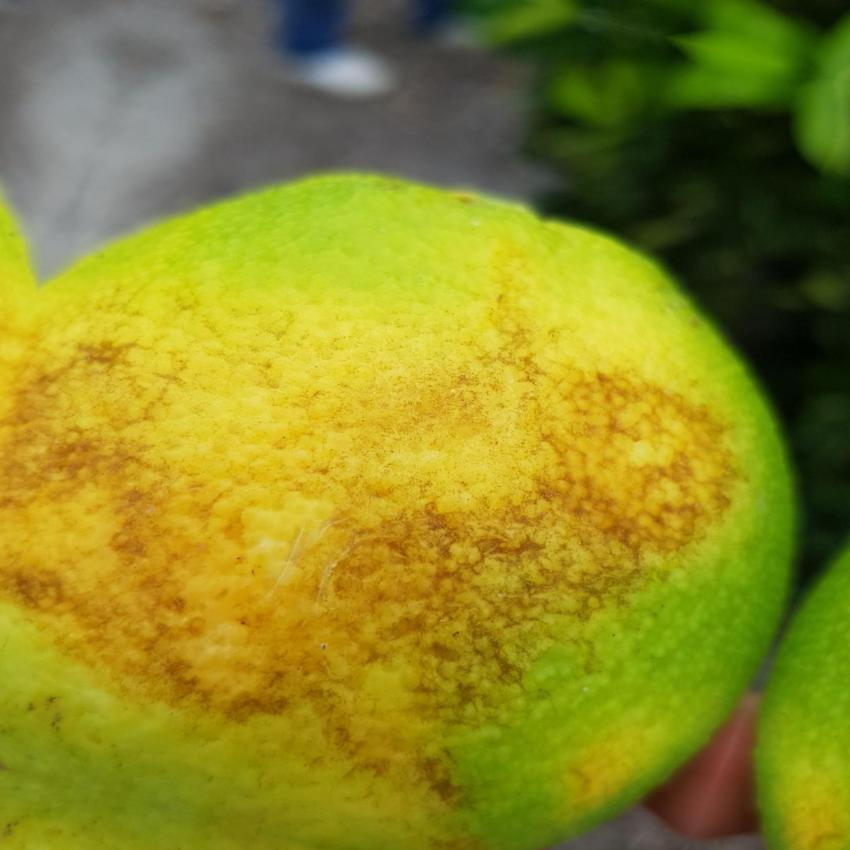Mal estado: (0, 158, 789, 832)
